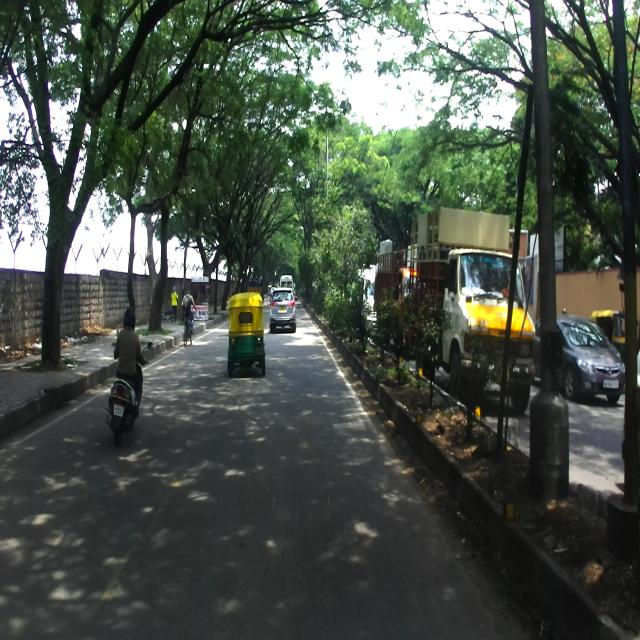auto ahead at: (227, 295, 263, 374)
motorcycle ahead at: (105, 377, 147, 436)
tree ahead at: (35, 153, 86, 373)
